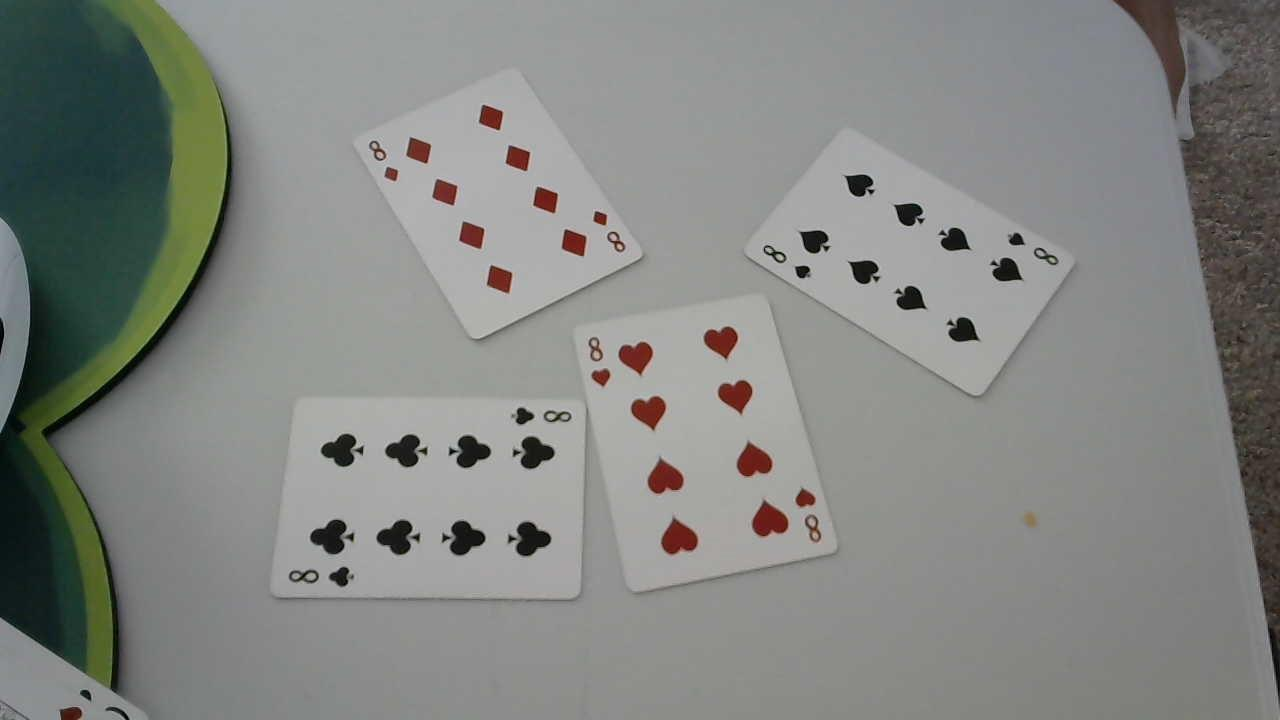8C: (284, 563, 357, 590), (508, 402, 574, 431)
8D: (366, 136, 400, 190), (588, 208, 626, 253)
8H: (790, 481, 824, 547), (583, 332, 612, 387)
8S: (759, 239, 816, 284), (1003, 228, 1061, 268)
